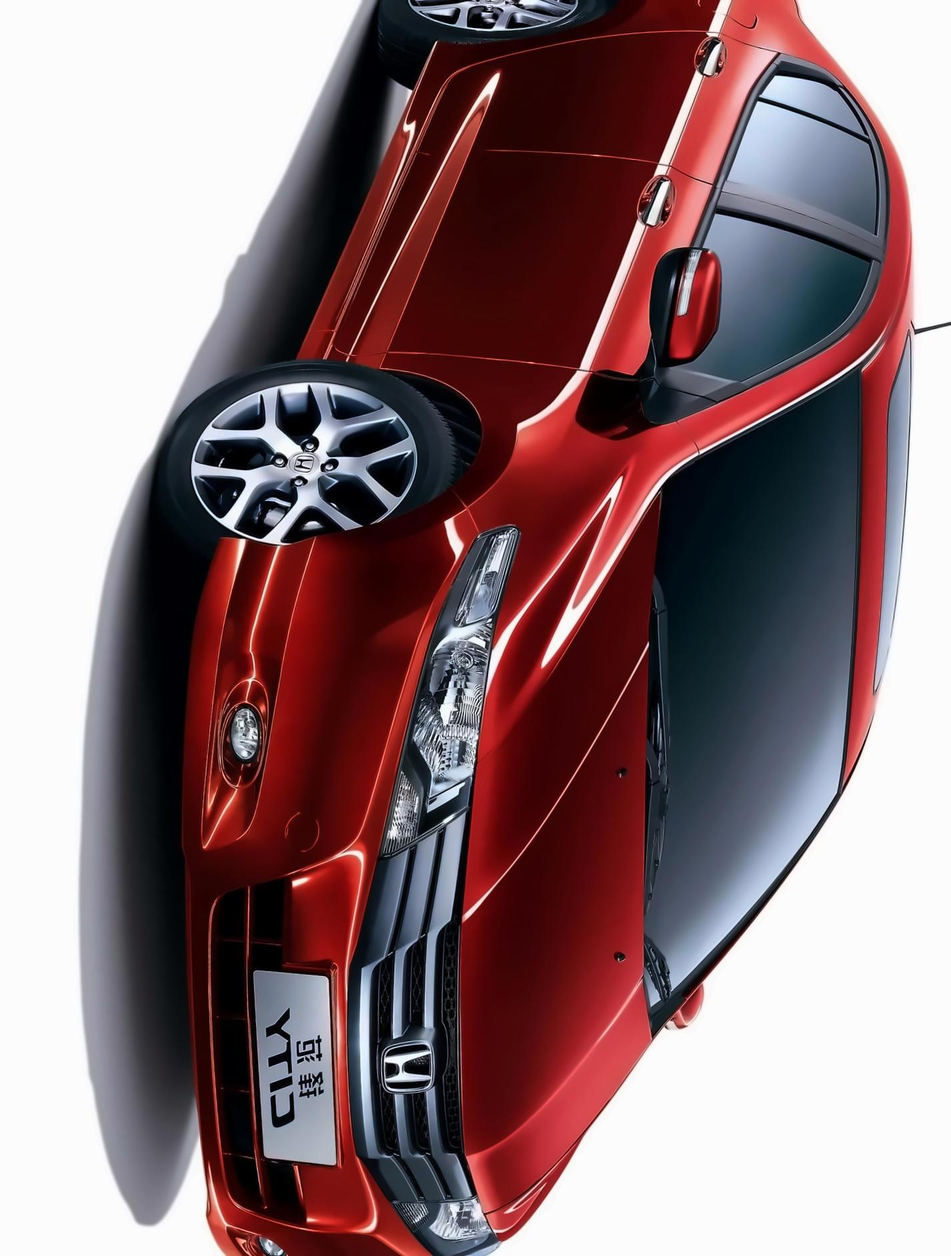Car hood: (454, 457, 660, 1236)
Driver-s door - -F-R-: (314, 153, 903, 358)
Fender - -F-R-: (287, 334, 675, 533)
Front bumper: (170, 487, 472, 1256)
Headlight - -L-: (374, 1144, 506, 1256)
Headlight - -R-: (360, 500, 536, 870)
Passenger-s door - -R-R-: (424, 27, 906, 185)
Side bumper - -R-: (280, 24, 460, 376)
Side mirror - -L-: (654, 947, 727, 1051)
Side mirror - -R-: (611, 227, 742, 437)
